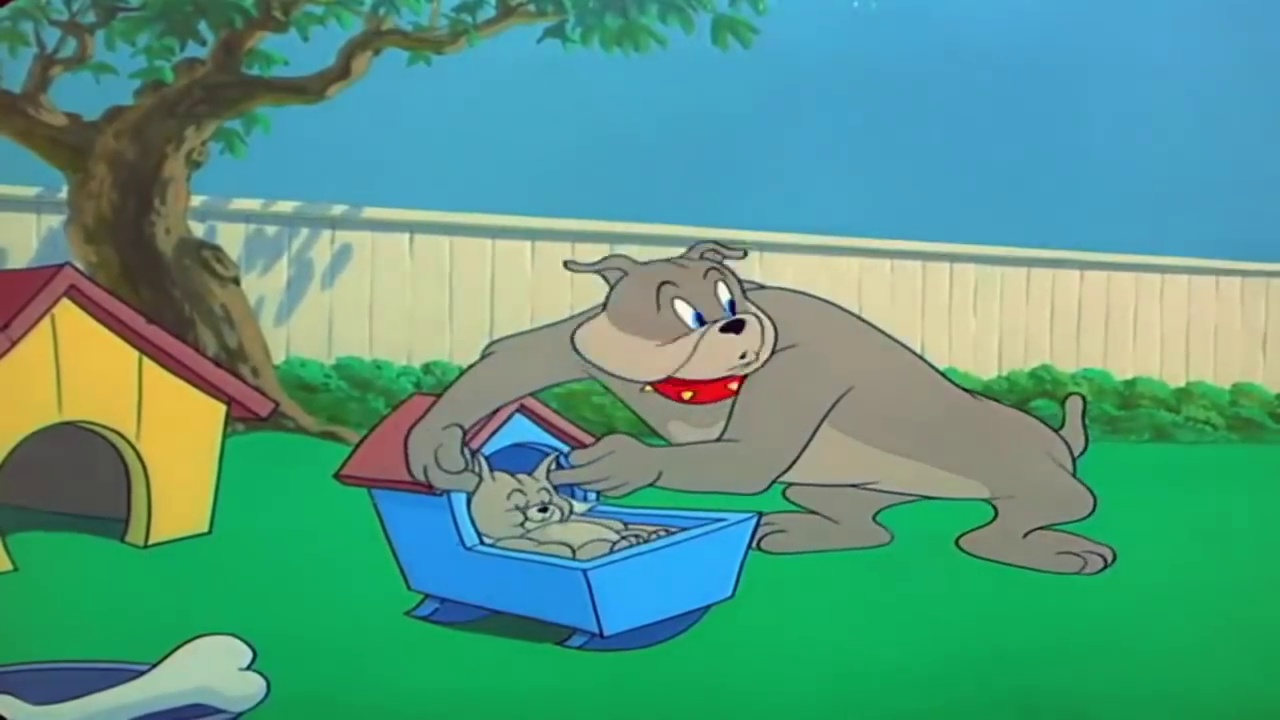spike: (555, 240, 780, 410)
